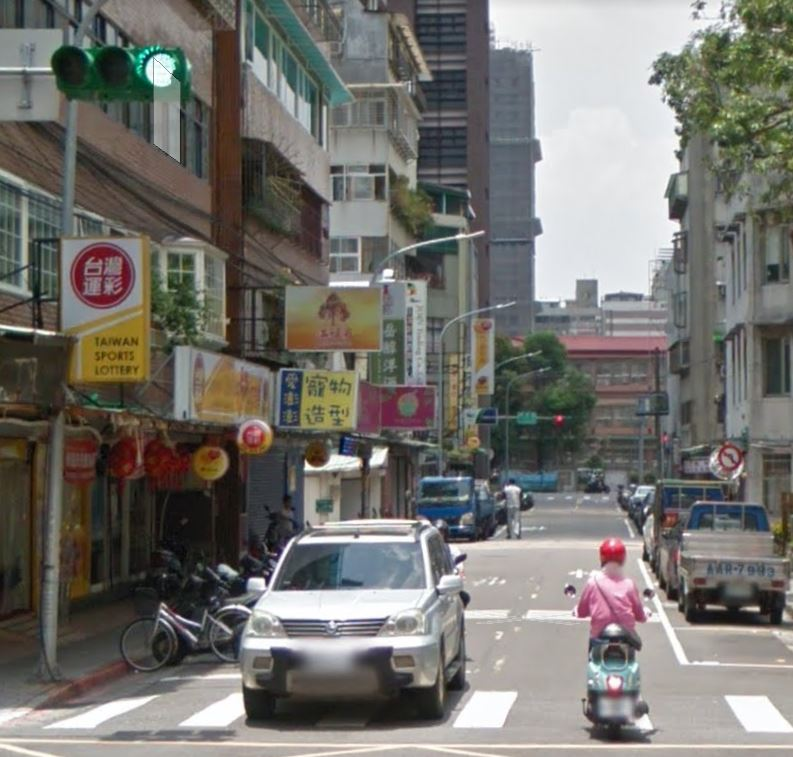Traffic_light_green: (48, 41, 194, 103)
car: (235, 510, 480, 721)
motorcycle: (558, 578, 663, 739)
